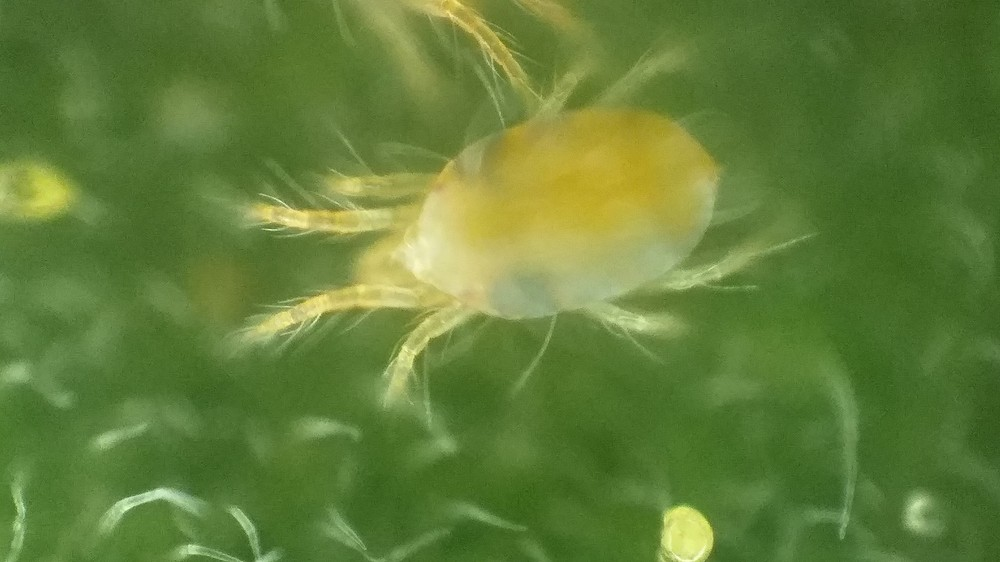Aracnido Rojo: (242, 62, 828, 407)
